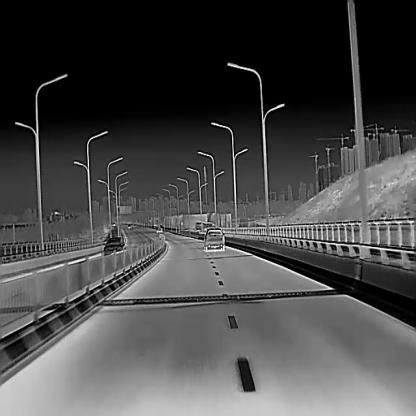car: (203, 228, 225, 249), (103, 236, 126, 254), (202, 220, 217, 229), (194, 219, 202, 228), (155, 225, 163, 233)
